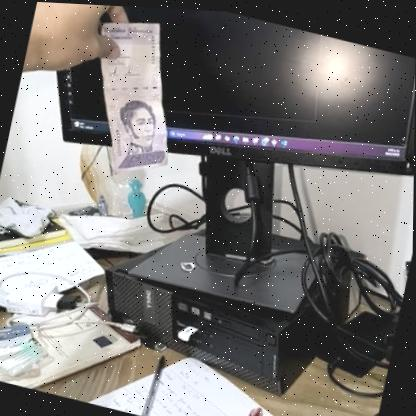ten-front-vef: (71, 5, 196, 184)
